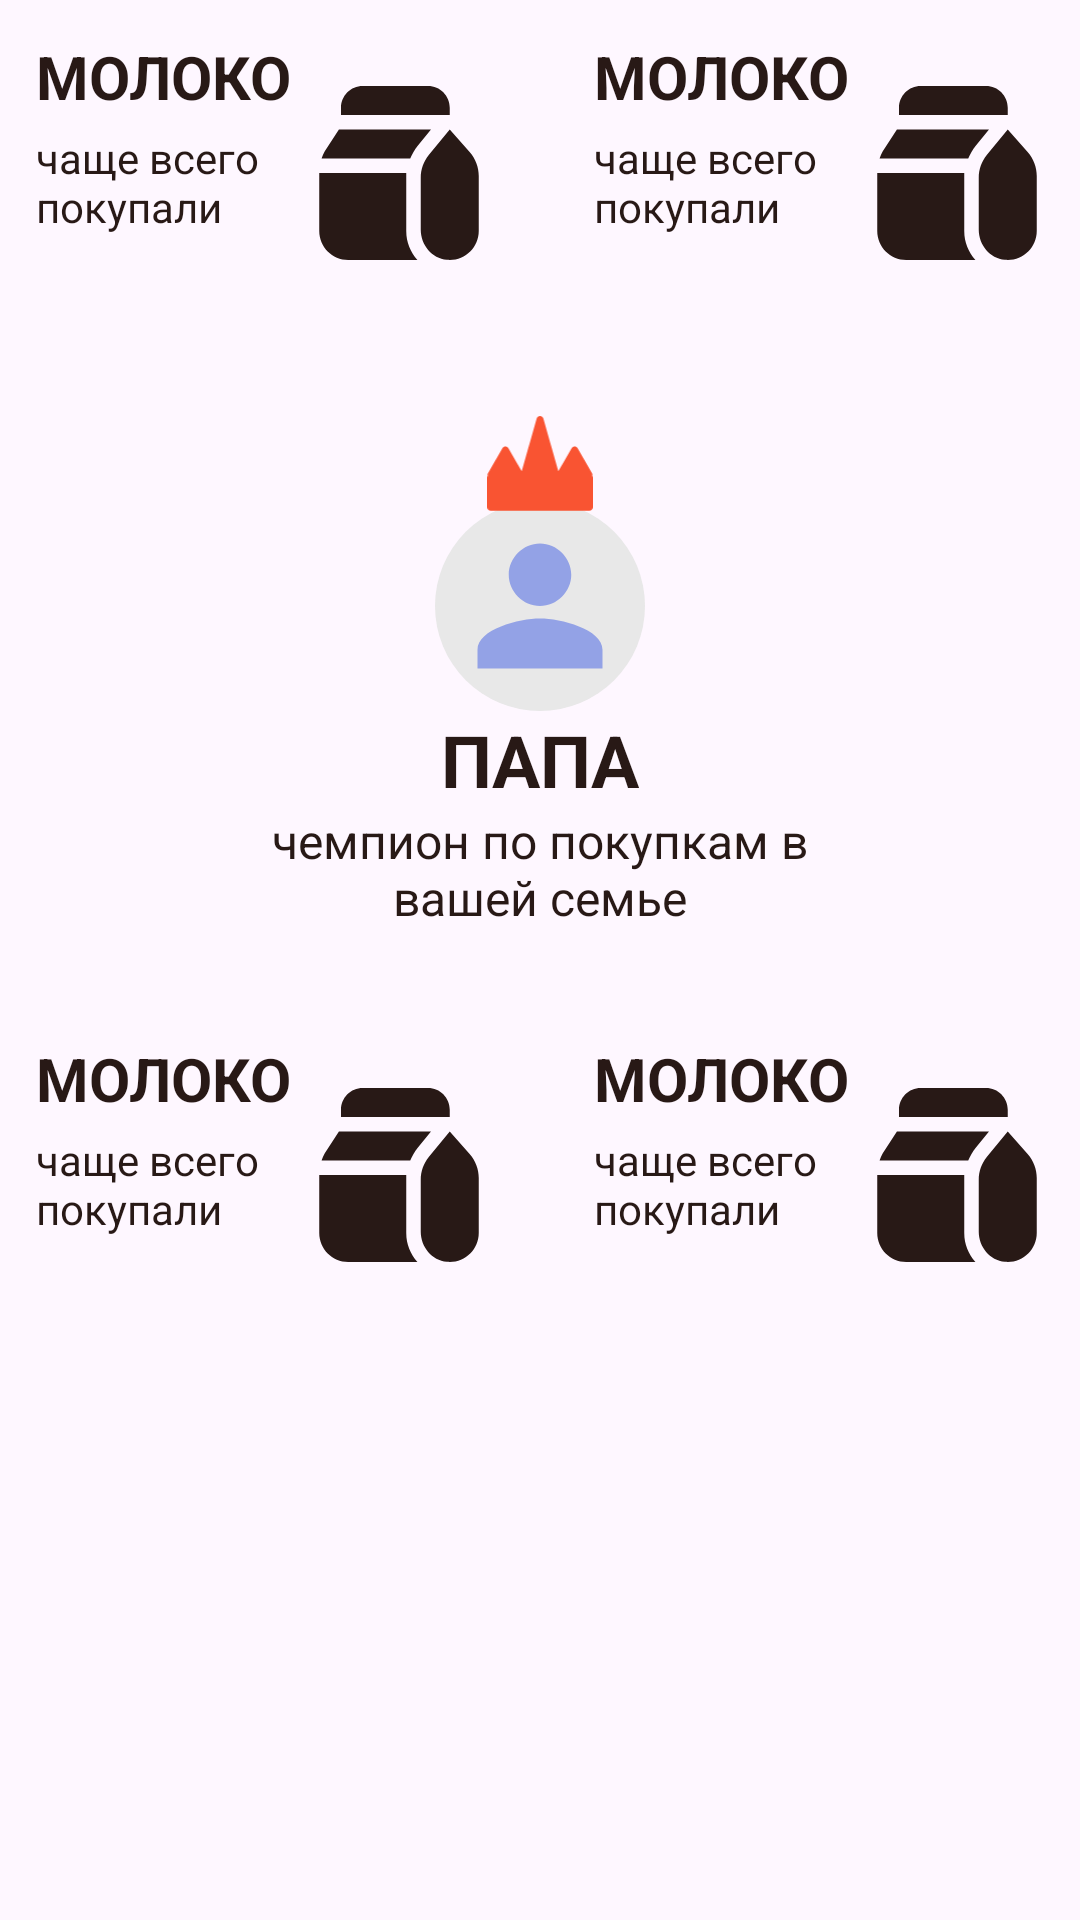

Point at icon controls on the screen. Image size 1080 × 1920, points as point (x, y).
crown: point (540, 463)
